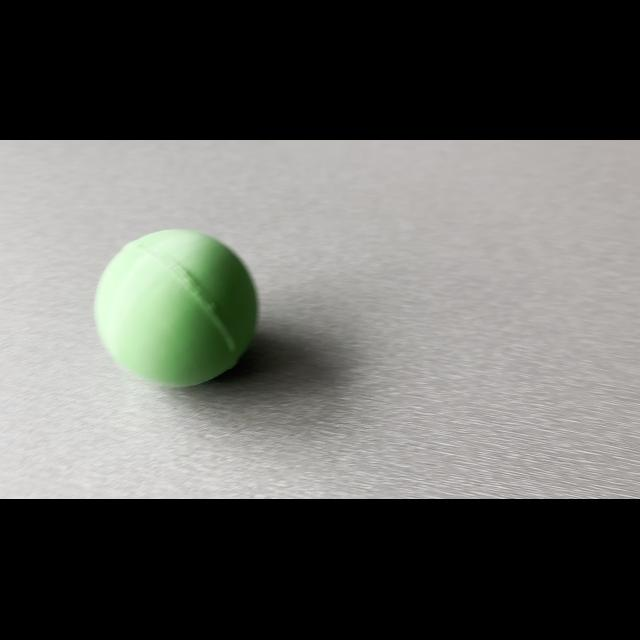objects: (87, 222, 267, 390)
